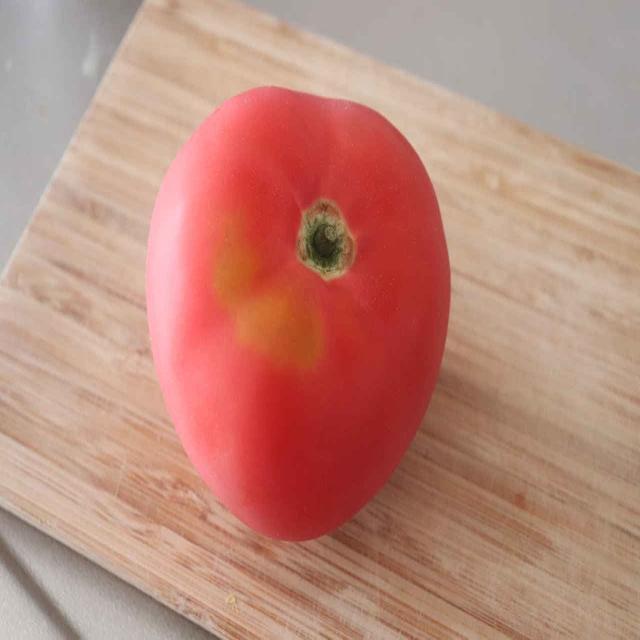Tomato: (138, 78, 453, 550)
